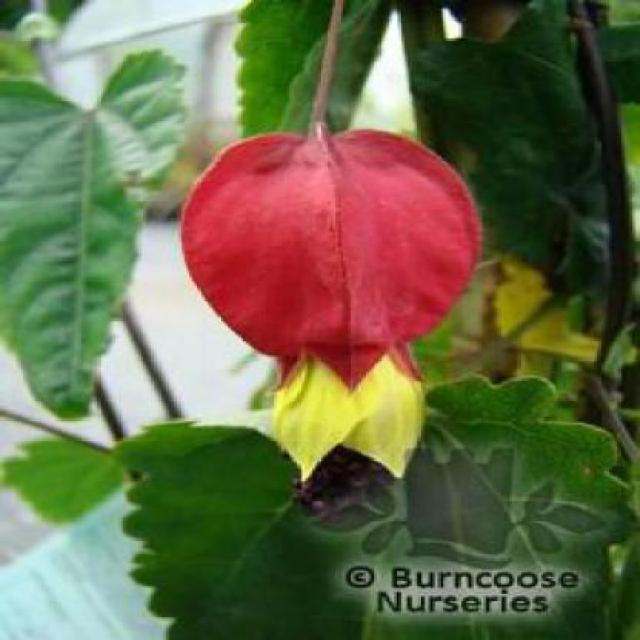Flower: (182, 125, 482, 519)
